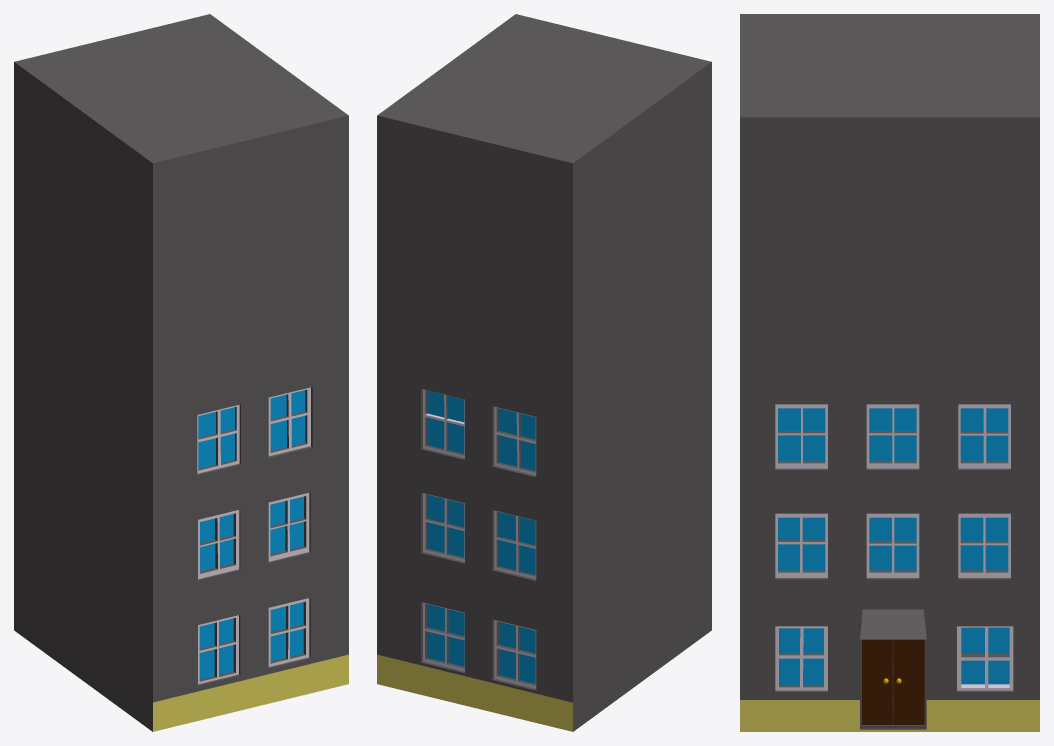
Rendered from High Rise 10 Grey.fbx.
The picture shows the model from 3 angles, left to right: view 1: azimuth 30°, elevation 25°; view 2: azimuth 150°, elevation 25°; view 3: azimuth 270°, elevation 25°; orthographic projection. The views are drawn at different scales.
Parts seen in each view (by area): view 1: Cube; view 2: Cube; view 3: Cube.
Boxes of the visible parts, x1,y1,x2,y2 form: Cube: [14, 14, 348, 731]; Cube: [377, 14, 711, 731]; Cube: [740, 14, 1039, 731].
Size of the model in its own units: 314 by 791 by 350.
